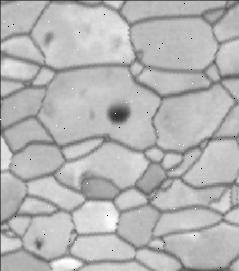good_void: (103, 96, 137, 126), (30, 235, 49, 253), (42, 29, 55, 49), (87, 107, 97, 124), (111, 218, 124, 228), (68, 225, 79, 236)
